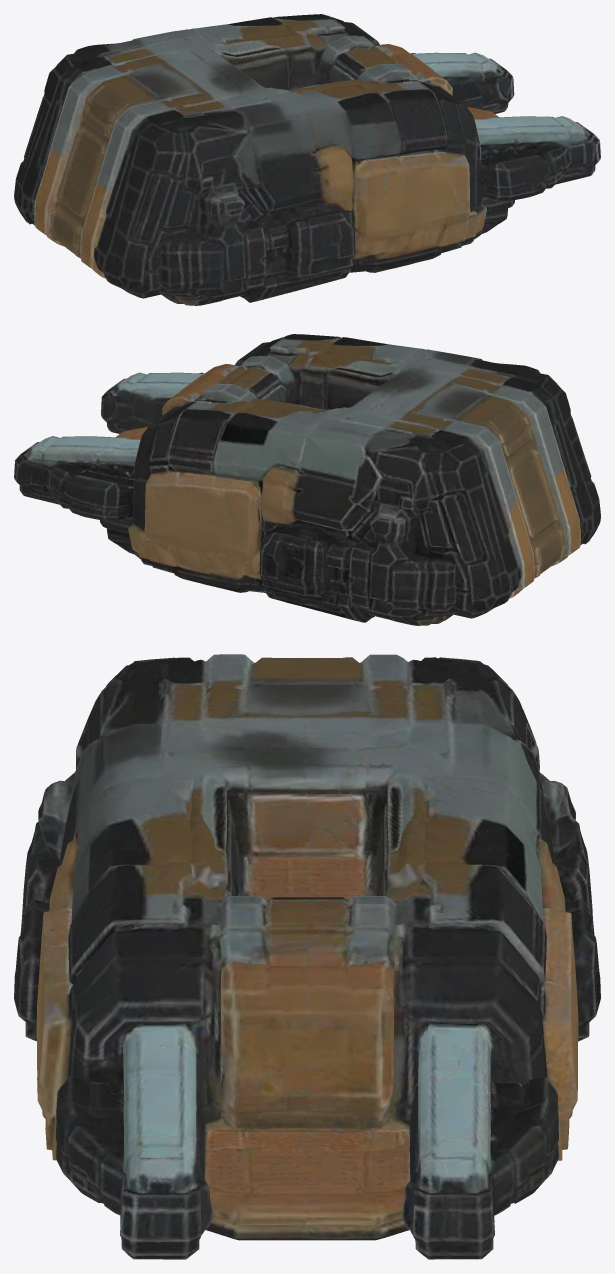
Rendered from arc-mason-lean.glb.
3 renders of one model, top to bottom at view 1: azimuth 30°, elevation 25°; view 2: azimuth 150°, elevation 25°; view 3: azimuth 270°, elevation 25°, orthographic. The views are drawn at different scales.
Parts seen in each view (by area): view 1: chassis; view 2: chassis; view 3: chassis.
Boxes of the visible parts, bbox=[...] form: chassis: bbox=[14, 14, 600, 305]; chassis: bbox=[14, 334, 600, 625]; chassis: bbox=[14, 654, 600, 1259].
Bounding box in the file's own units: 0.9899 × 0.3609 × 0.6109.
1 material, 1 textured.
